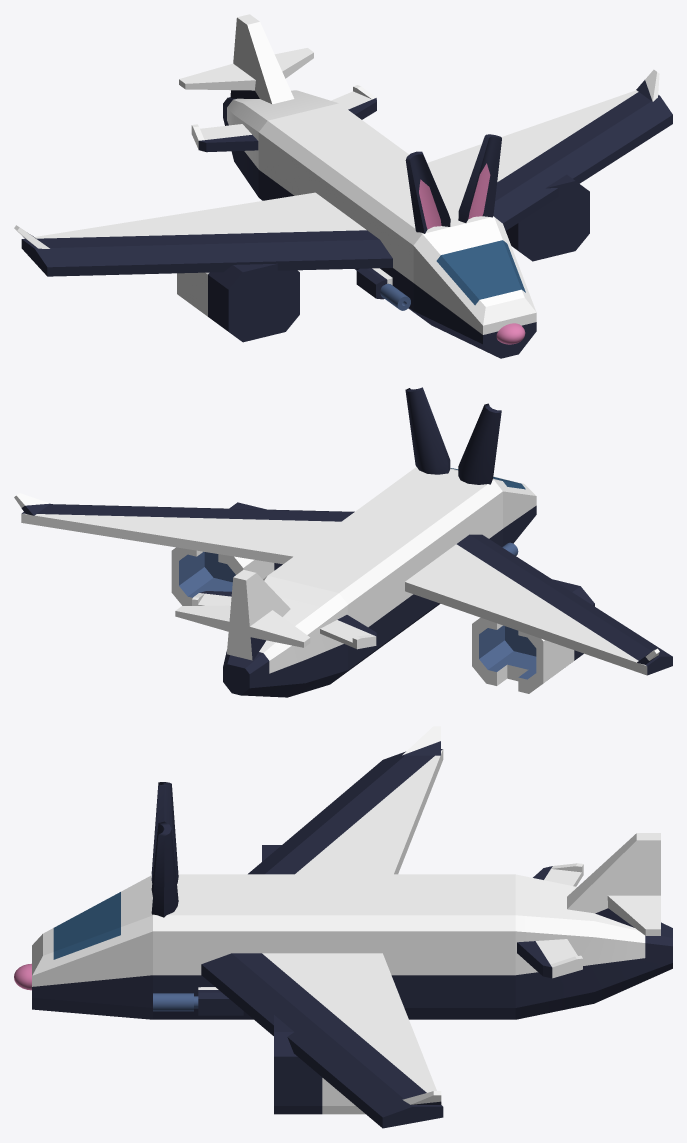
Rendered from bunwing.fbx.
The picture shows the model from 3 angles, top to bottom: view 1: azimuth 30°, elevation 25°; view 2: azimuth 150°, elevation 25°; view 3: azimuth 270°, elevation 25°; orthographic projection. The views are drawn at different scales.
Visible parts, largest first — view 1: wing_longSlant (×2), hull_body, hull_cockpitPoint, engine_low (×2), rudder_sides, ear_point (×2), hull_frontNose, wing_slantEdgeWinglet (×2), mediumBlaster_barrelSilencer; view 2: wing_longSlant (×2), hull_body, engine_low (×2), hull_frontNose, rudder_sides, ear_point (×2), hull_cockpitPoint, wing_slantEdgeWinglet (×2); view 3: hull_body, wing_longSlant (×2), hull_cockpitPoint, hull_frontNose, rudder_sides, engine_low, ear_point (×2), wing_slantEdgeWinglet (×2), mediumBlaster_barrelSilencer, rudder_angle.
Boxes of the visible parts, x1,y1,x2,y2 form: wing_longSlant (×2): (21, 90, 672, 276); hull_body: (258, 103, 493, 322); hull_cockpitPoint: (413, 216, 536, 358); engine_low (×2): (177, 174, 589, 342); rudder_sides: (179, 14, 313, 104); ear_point (×2): (405, 134, 501, 233); hull_frontNose: (223, 90, 338, 196); wing_slantEdgeWinglet (×2): (191, 85, 376, 152); mediumBlaster_barrelSilencer: (356, 268, 410, 310); wing_longSlant (×2): (21, 504, 672, 675); hull_body: (268, 467, 502, 682); engine_low (×2): (171, 502, 594, 693); hull_frontNose: (223, 576, 347, 697); rudder_sides: (175, 569, 310, 660); ear_point (×2): (405, 387, 501, 484); hull_cockpitPoint: (450, 468, 536, 546); wing_slantEdgeWinglet (×2): (192, 591, 376, 649); hull_body: (153, 874, 515, 1019); wing_longSlant (×2): (201, 749, 443, 1128); hull_cockpitPoint: (32, 875, 152, 1019); hull_frontNose: (515, 874, 672, 1019); rudder_sides: (567, 833, 660, 935); engine_low: (274, 1015, 365, 1114); ear_point (×2): (151, 782, 178, 917); wing_slantEdgeWinglet (×2): (517, 863, 583, 978); mediumBlaster_barrelSilencer: (153, 987, 243, 1015); rudder_angle: (402, 726, 440, 755).
Size of the model in its own units: 71.88 by 20.07 by 54.5.
